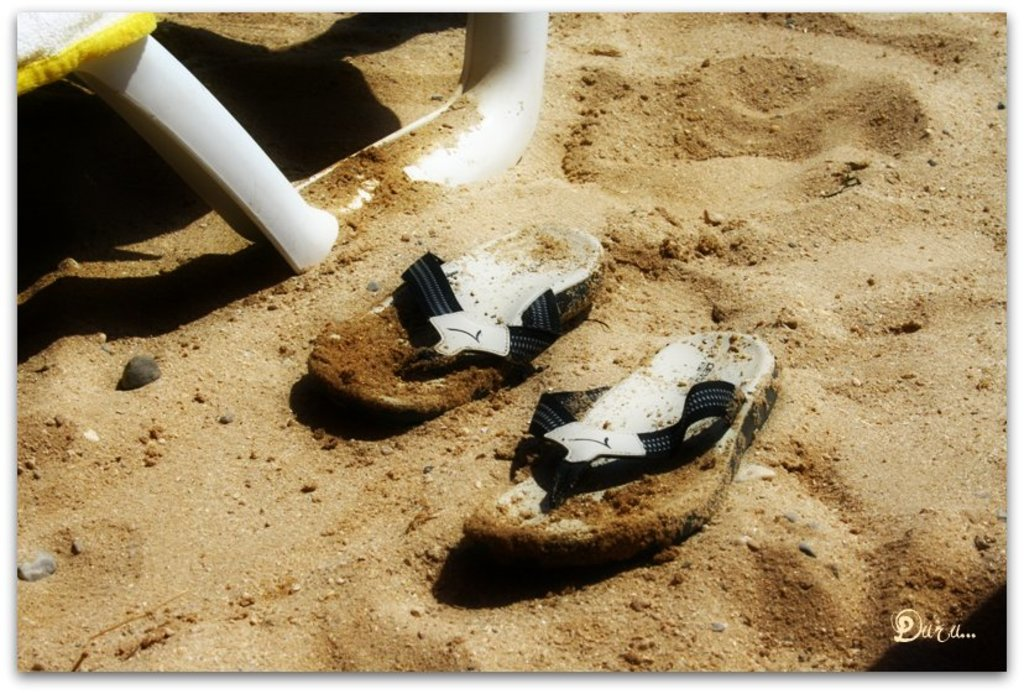Footwear: (303, 220, 607, 413), (505, 345, 778, 492)
